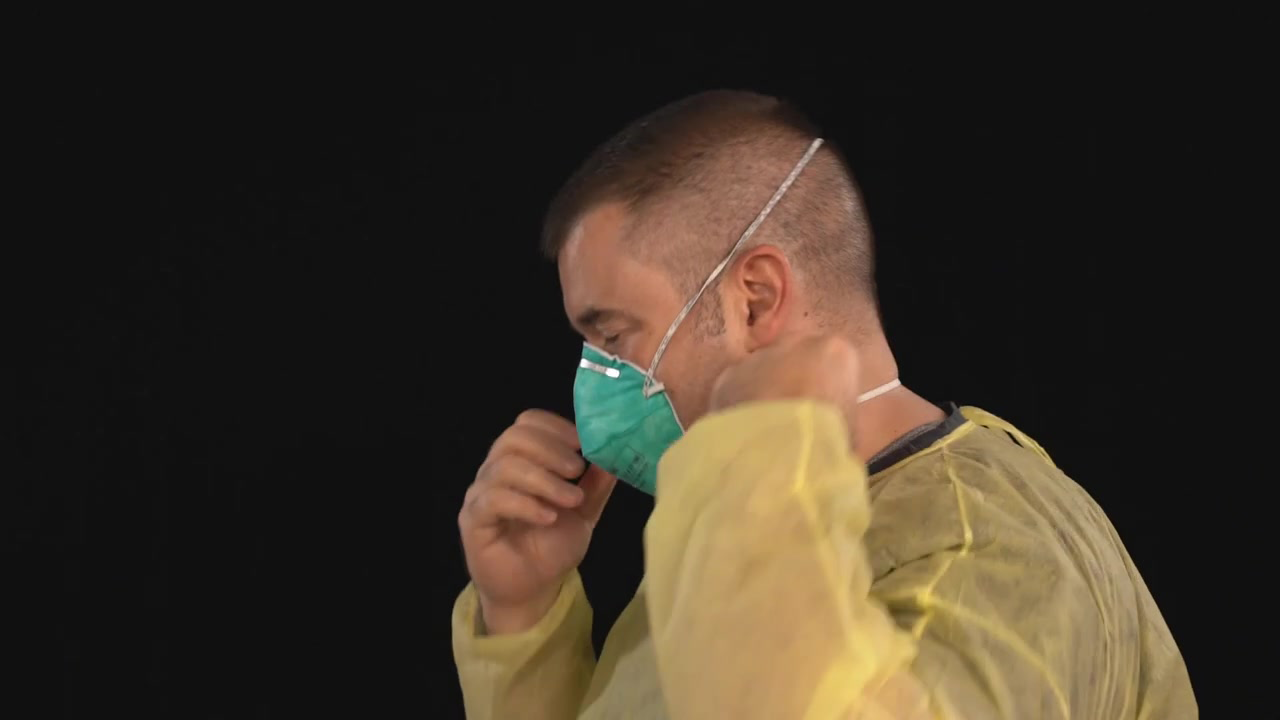Coverall: (424, 444, 1187, 720)
with_mask: (546, 304, 682, 512)
